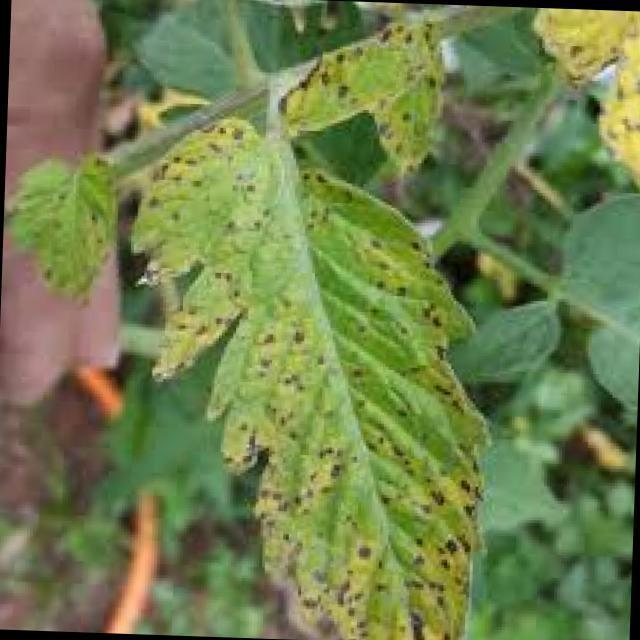Bacterial Spot: (136, 139, 492, 640), (282, 12, 458, 160), (5, 140, 125, 308)
